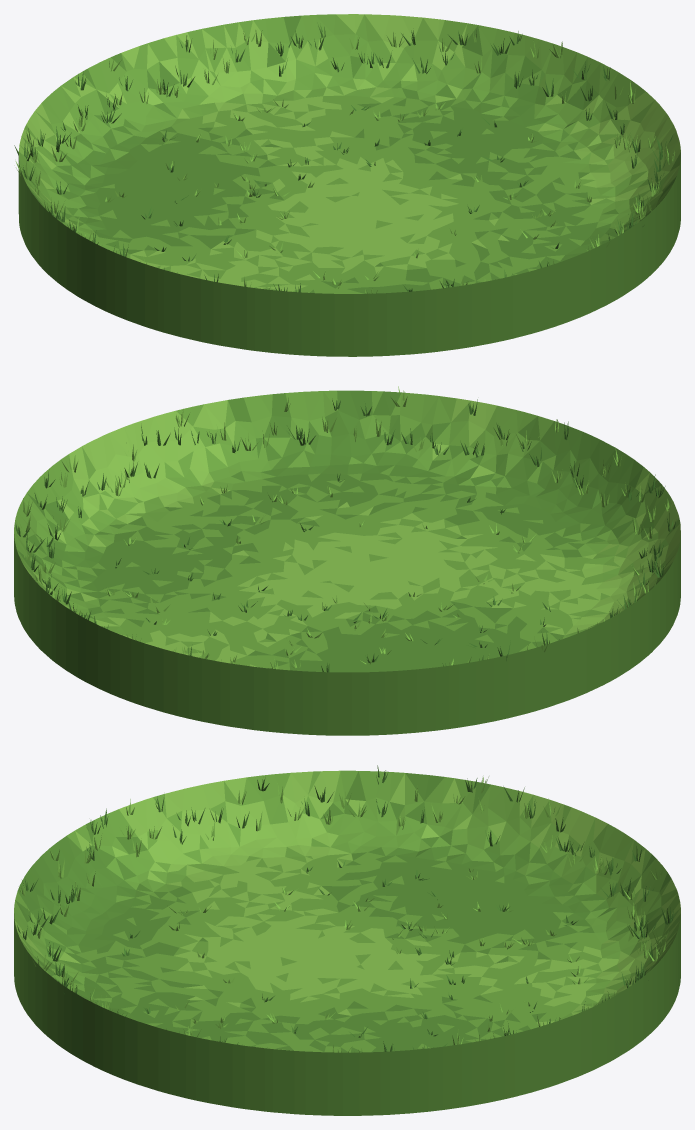
File: backyard_arena.glb
The picture shows the model from 3 angles, top to bottom: view 1: azimuth 30°, elevation 25°; view 2: azimuth 150°, elevation 25°; view 3: azimuth 270°, elevation 25°; orthographic projection.
Parts seen in each view (by area): view 1: Ground_Dark, Ground_Mid, Ground_Light, GrassTufts_Dark, GrassTufts_Light; view 2: Ground_Dark, Ground_Mid, Ground_Light, GrassTufts_Dark, GrassTufts_Light; view 3: Ground_Dark, Ground_Mid, Ground_Light, GrassTufts_Light, GrassTufts_Dark.
Part boxes in pixels (x1,y1,x2,y2): Ground_Dark: (18,15,680,356); Ground_Mid: (19,14,680,293); Ground_Light: (19,14,680,291); GrassTufts_Dark: (14,25,673,292); GrassTufts_Light: (15,25,675,293); Ground_Dark: (14,390,680,735); Ground_Mid: (14,390,680,670); Ground_Light: (24,398,680,667); GrassTufts_Dark: (15,399,675,672); GrassTufts_Light: (19,386,671,669); Ground_Dark: (14,771,680,1115); Ground_Mid: (14,770,680,1052); Ground_Light: (14,770,680,1026); GrassTufts_Light: (19,777,668,1052); GrassTufts_Dark: (17,765,673,1051).
Size of what is drawn, in the model's own units: 41.99 by 5.1 by 42.
